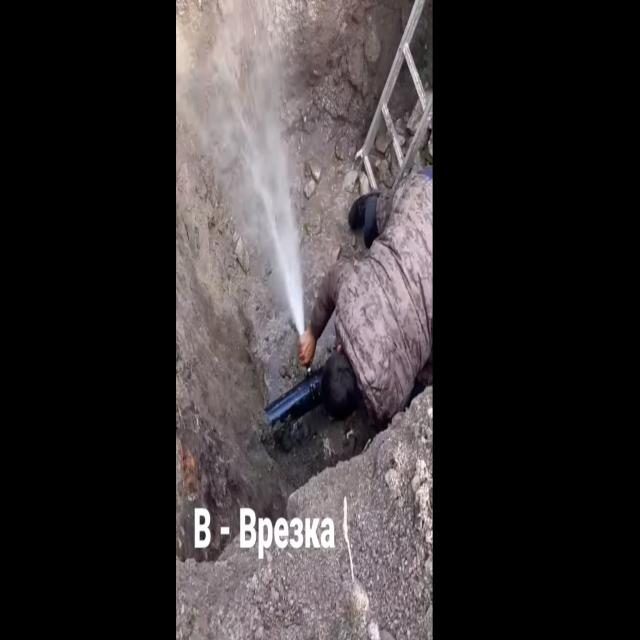leak: (242, 120, 305, 336)
